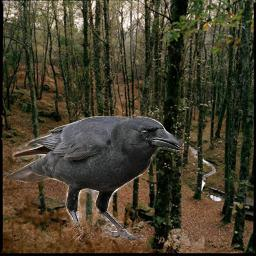Crow: (4, 116, 184, 241)
